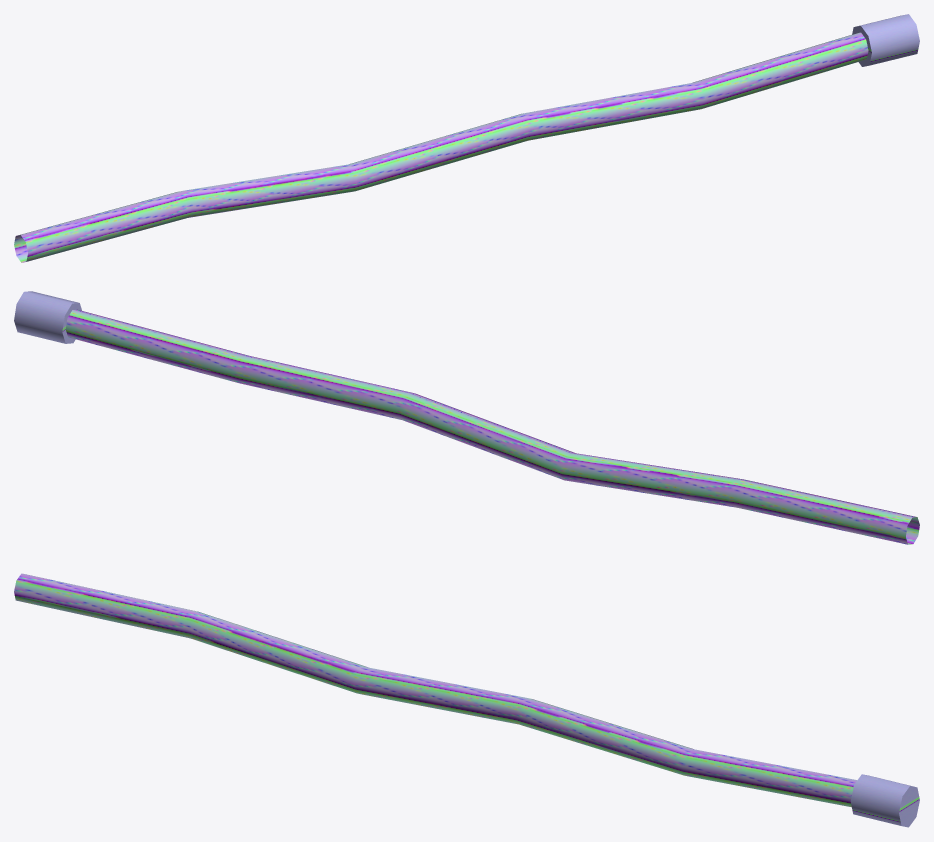
Rendered from LitCableC1.fbx.
3 views of the same model, one above another, from view 1: azimuth 30°, elevation 25°; view 2: azimuth 150°, elevation 25°; view 3: azimuth 330°, elevation 25° (orthographic).
Visible parts, largest first — view 1: LitCableC1; view 2: LitCableC1; view 3: LitCableC1.
Part boxes in pixels (box(x1,y1,x2,y2)): LitCableC1: box(14, 14, 919, 262); LitCableC1: box(14, 291, 919, 544); LitCableC1: box(14, 573, 919, 827).
Bounding box in the file's own units: 106 × 5.51 × 5.18.
Materials: 1 (1 with a texture image).
